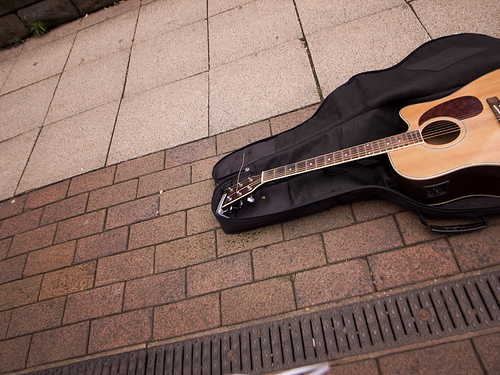guitar: (212, 66, 499, 216)
